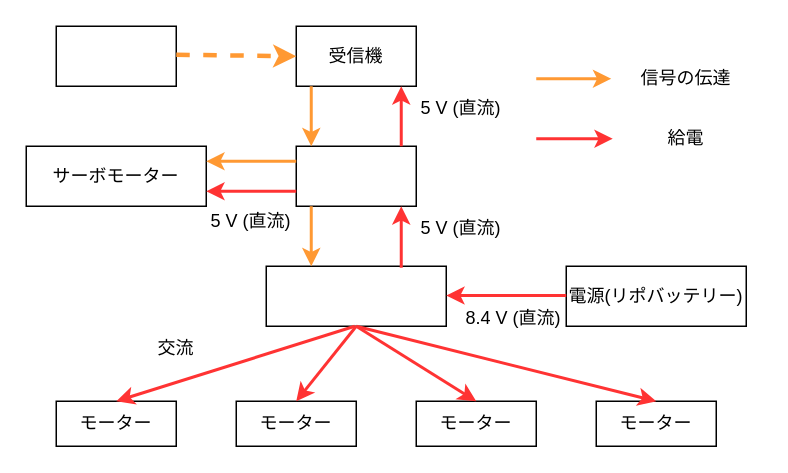
The diagram is 788 pixels wide and 473 high, and some of its shapes have lost their labels. Here are the shapes that lost their labels. From the top down, the centre of each, then its label:
the point at 115,55: 送信機
the point at 355,175: FC
the point at 355,295: ESC(BEC付き)
